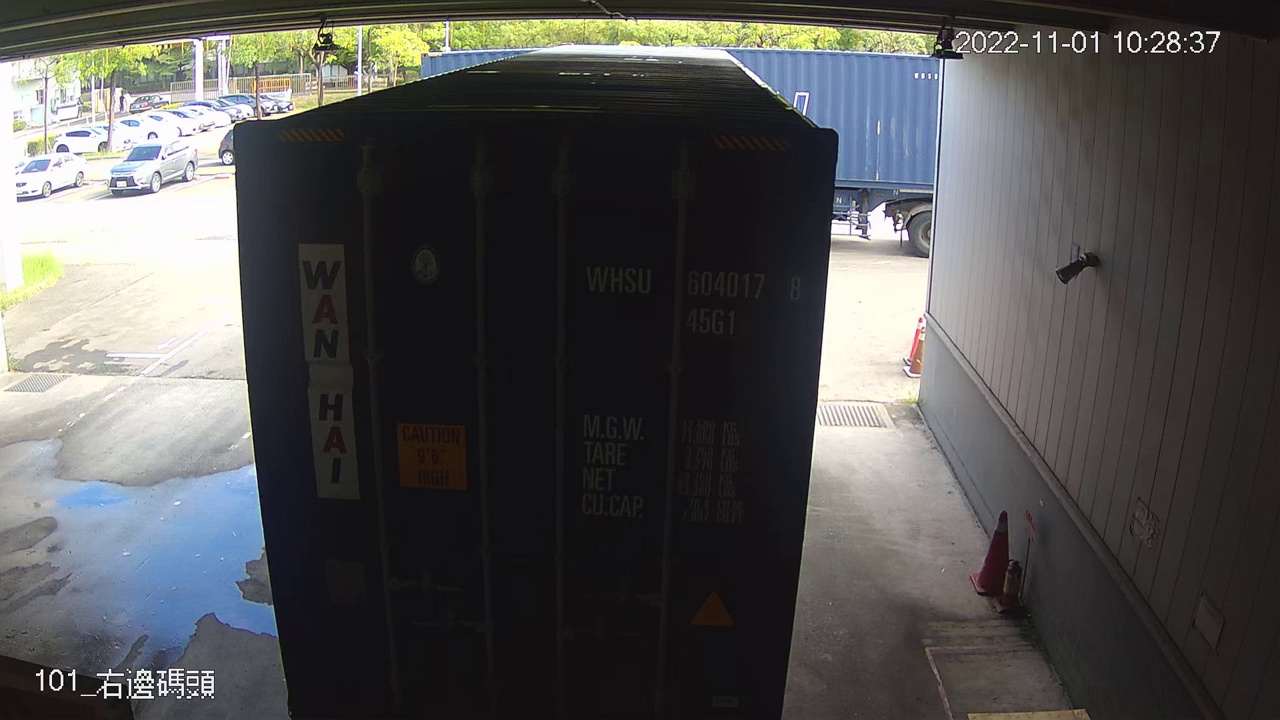container: (567, 251, 816, 339)
